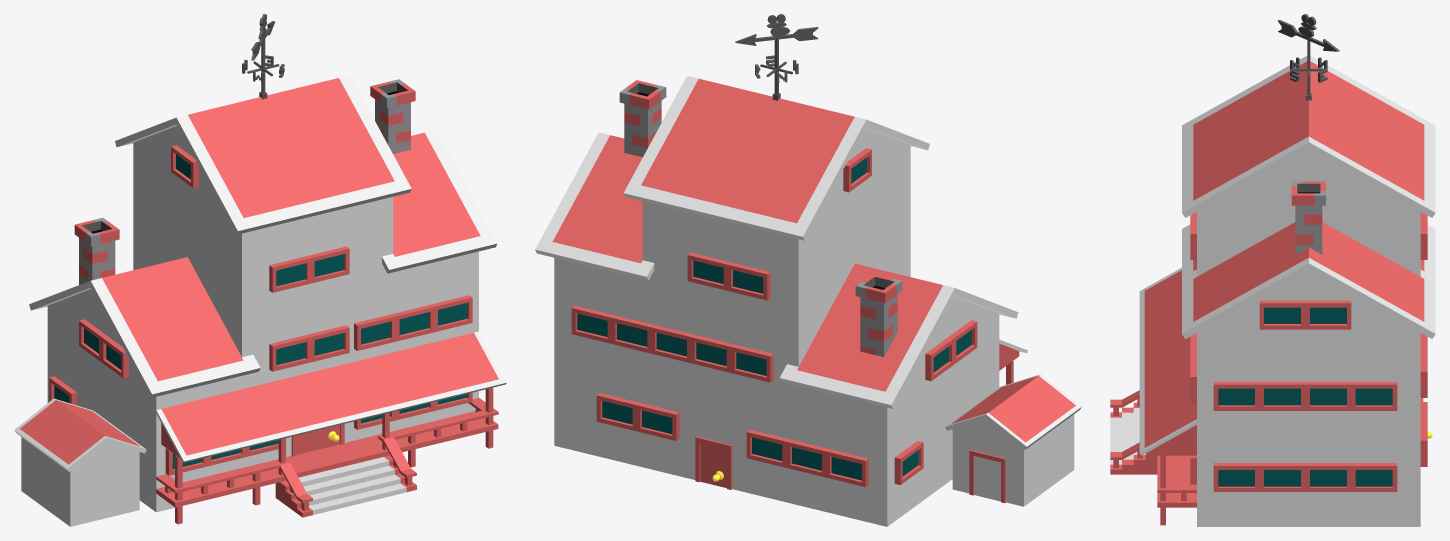
The model's file is building_farmhouse.fbx.
3 renders of one model, left to right at view 1: azimuth 30°, elevation 25°; view 2: azimuth 150°, elevation 25°; view 3: azimuth 270°, elevation 25°, orthographic. The views are drawn at different scales.
Parts seen in each view (by area): view 1: building_farmhouse, porch, windows, shed, chimneys, door1, iron_arrow; view 2: building_farmhouse, windows, shed, chimneys, door3, iron_arrow, porch; view 3: building_farmhouse, windows, porch, chimneys, iron_arrow.
Boxes of the visible parts, bbox=[...] form: building_farmhouse: bbox=[29, 75, 497, 512]; porch: bbox=[156, 331, 506, 524]; windows: bbox=[49, 145, 472, 475]; shed: bbox=[14, 398, 146, 526]; chimneys: bbox=[74, 79, 415, 284]; door1: bbox=[291, 424, 344, 456]; iron_arrow: bbox=[242, 14, 284, 82]; building_farmhouse: bbox=[535, 76, 1018, 526]; windows: bbox=[571, 148, 977, 487]; shed: bbox=[945, 374, 1081, 506]; chimneys: bbox=[619, 80, 902, 356]; door3: bbox=[695, 436, 732, 489]; iron_arrow: bbox=[735, 14, 818, 83]; porch: bbox=[999, 339, 1027, 384]; building_farmhouse: bbox=[1182, 55, 1435, 526]; windows: bbox=[1190, 212, 1427, 491]; porch: bbox=[1110, 267, 1196, 525]; chimneys: bbox=[1291, 181, 1325, 254]; iron_arrow: bbox=[1277, 14, 1339, 82].
Bounding box in the file's own units: 22.22 × 21.16 × 14.52.
